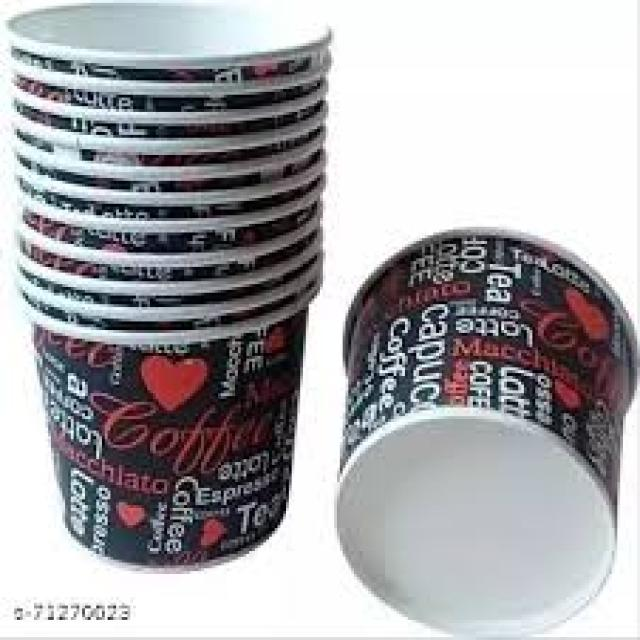PaperCardboard: (2, 0, 332, 568), (331, 219, 640, 639)
